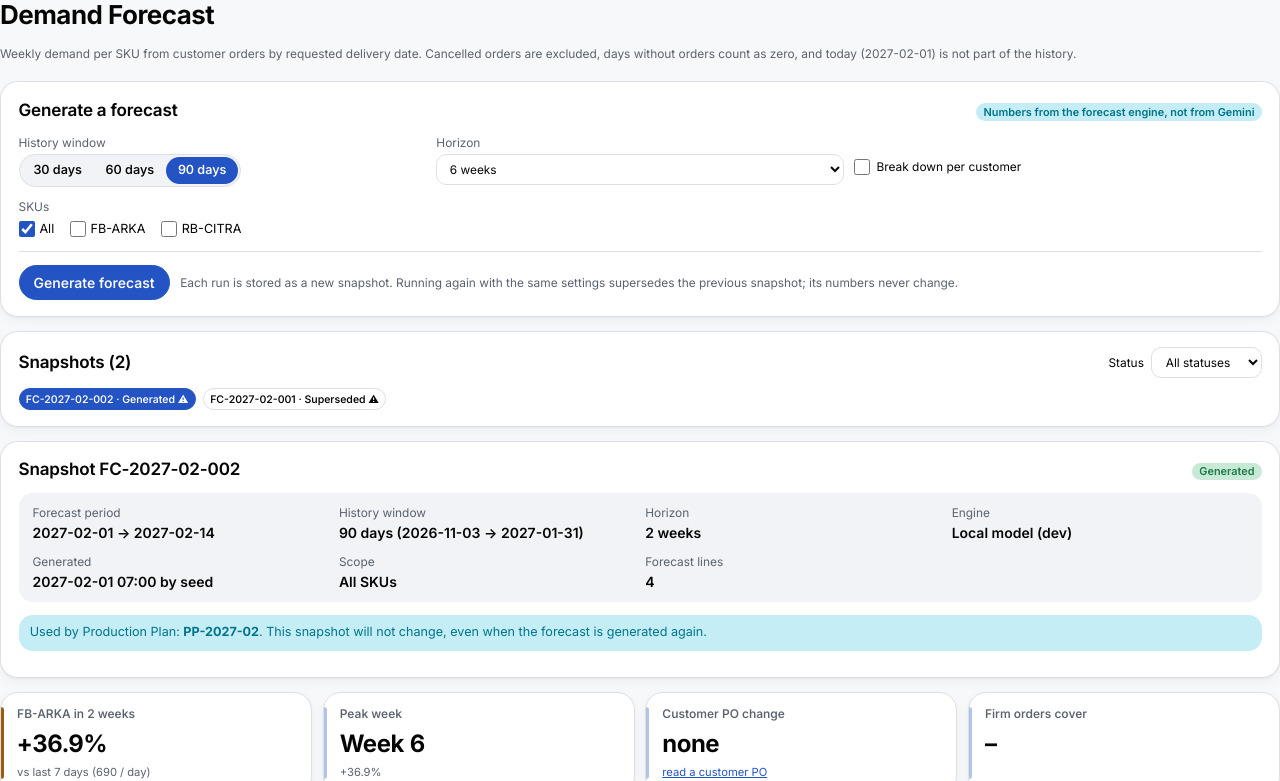
Test: shows field errors from the API next to the inputs
Check: the heading "Snapshot FC-2027-02-002" is shown, box [18,457,240,483]
Click the button "Generate forecast": point(94, 283) [18,265,170,300]
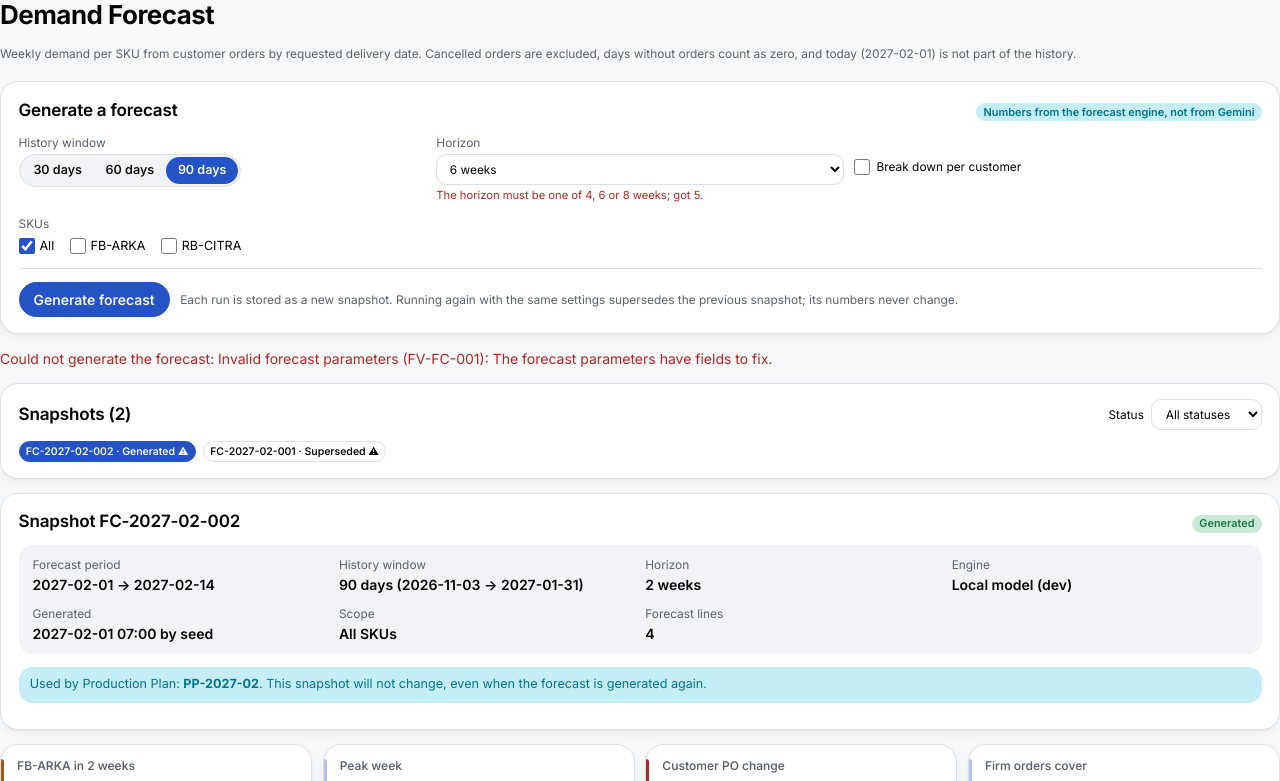
Check: the text "The horizon must be one of 4, 6 or 8 weeks; got 5." is shown, box [436,188,703,202]
Check: the text "Could not generate the forecast: Invalid forecast parameters (FV-FC-001)" is shown, box [0,350,772,367]
